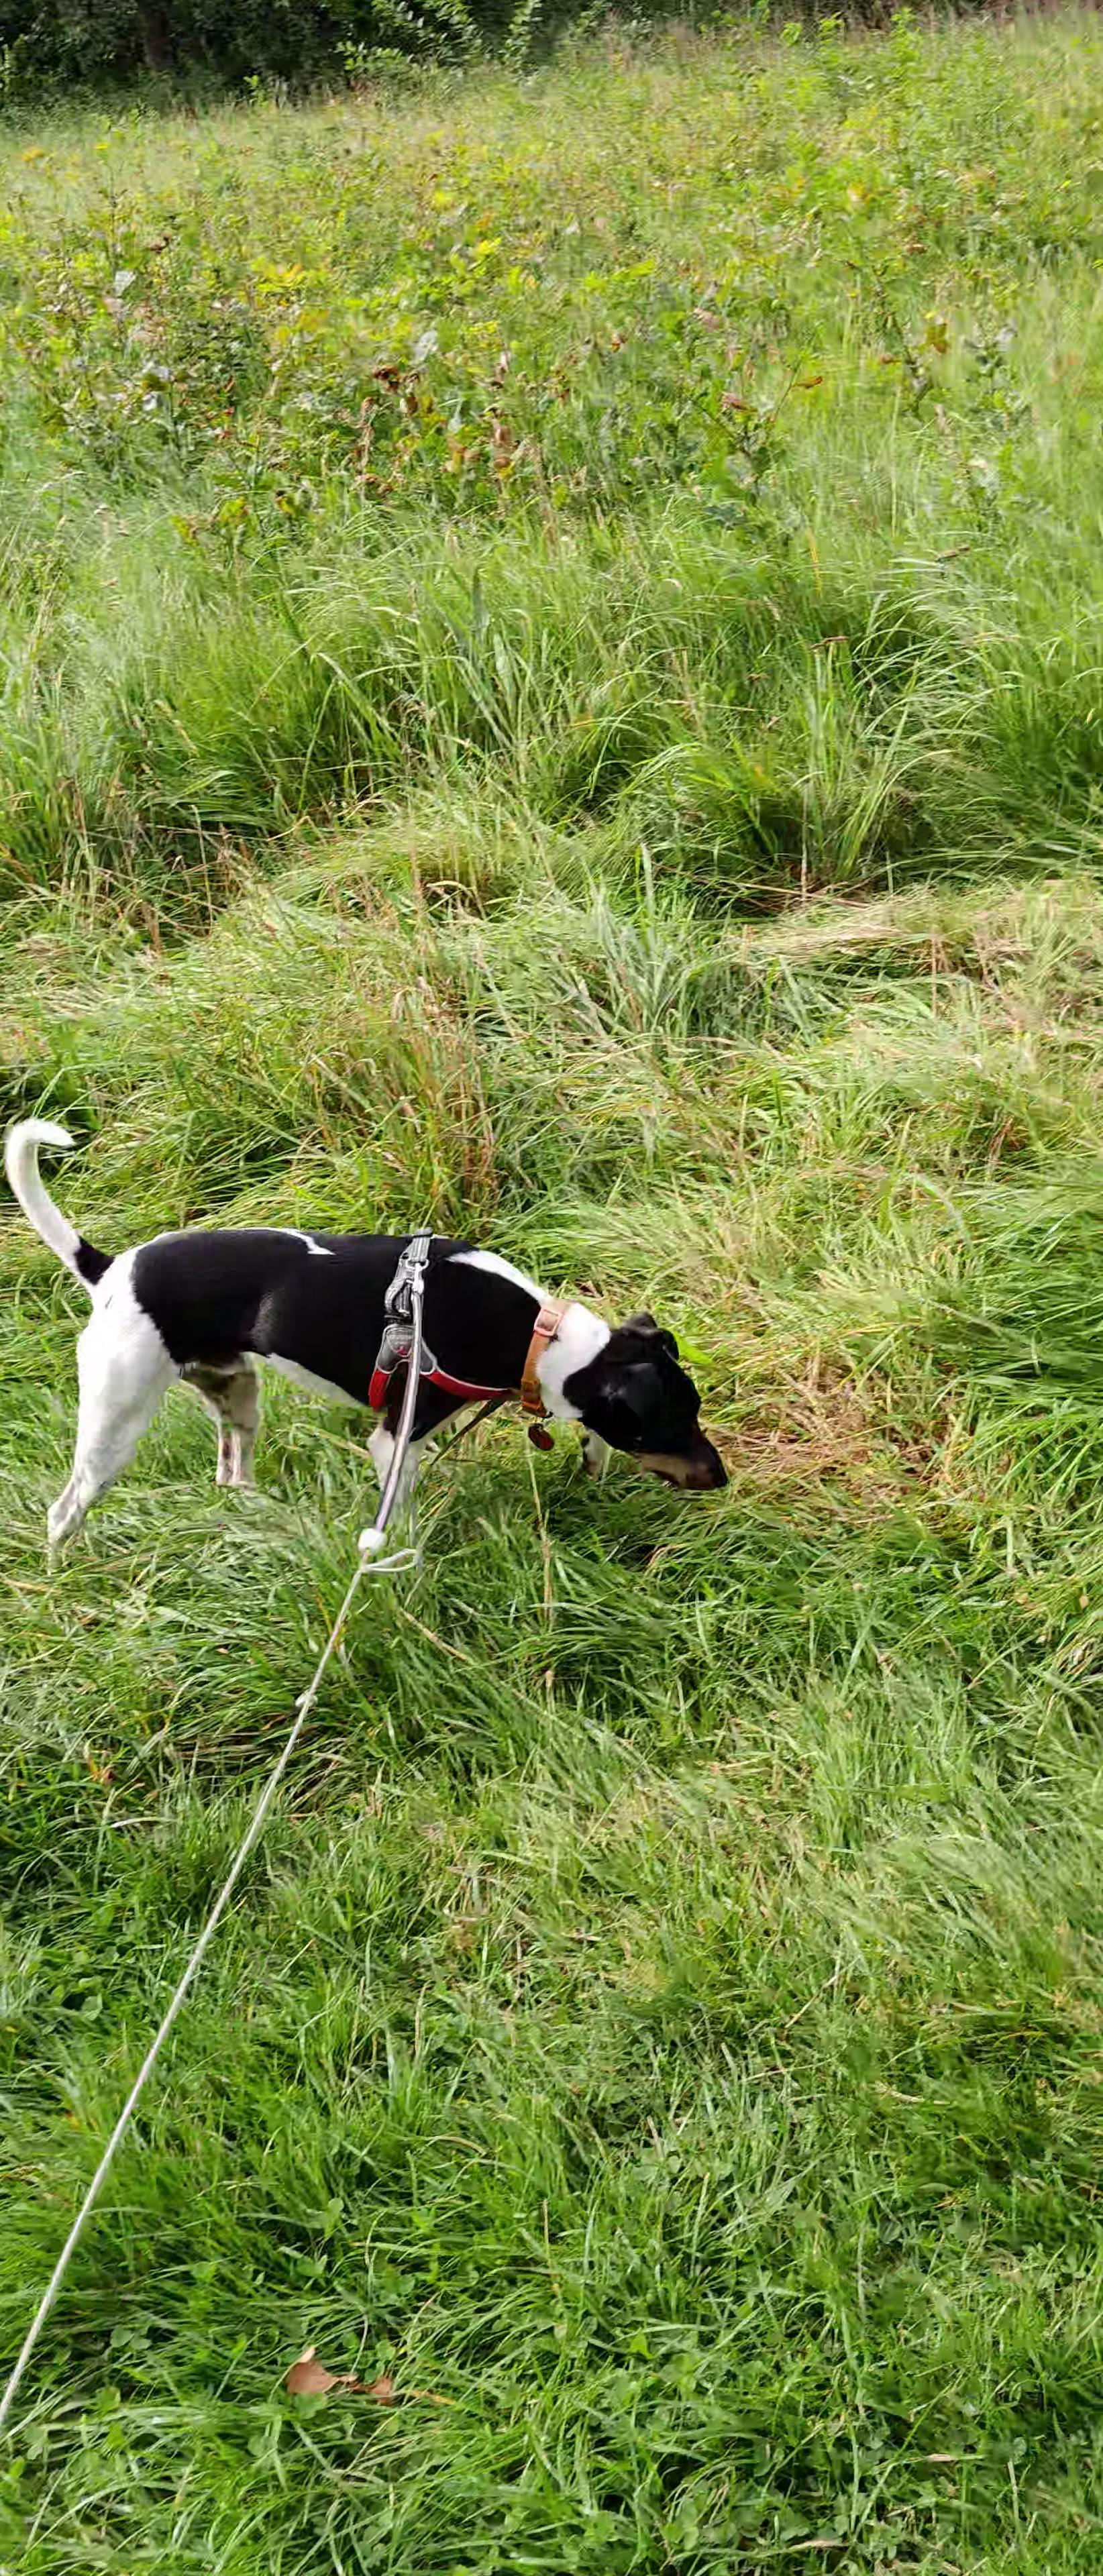Dog: (0, 1091, 738, 1589)
